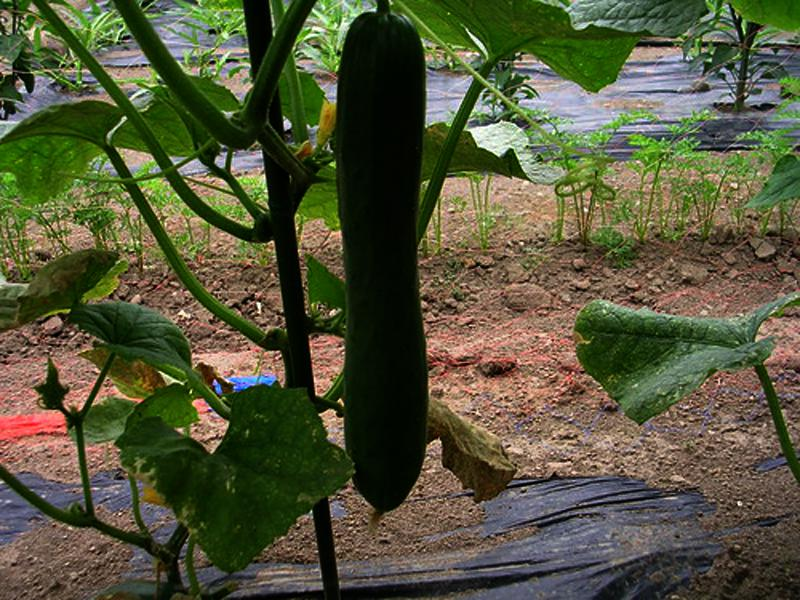Cucumber: (334, 11, 427, 525)
